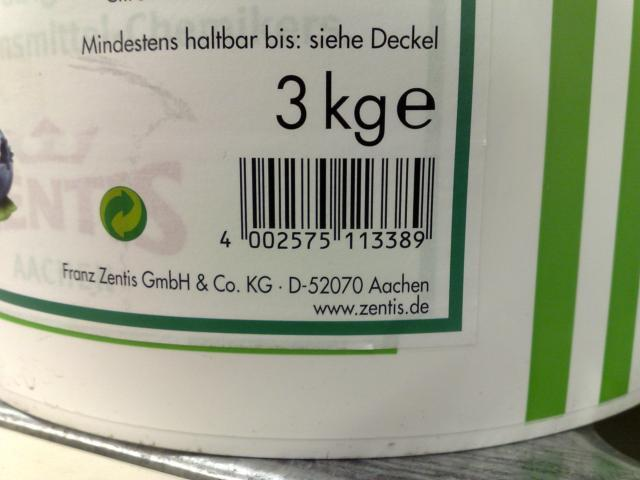Barcode: (212, 155, 442, 256)
